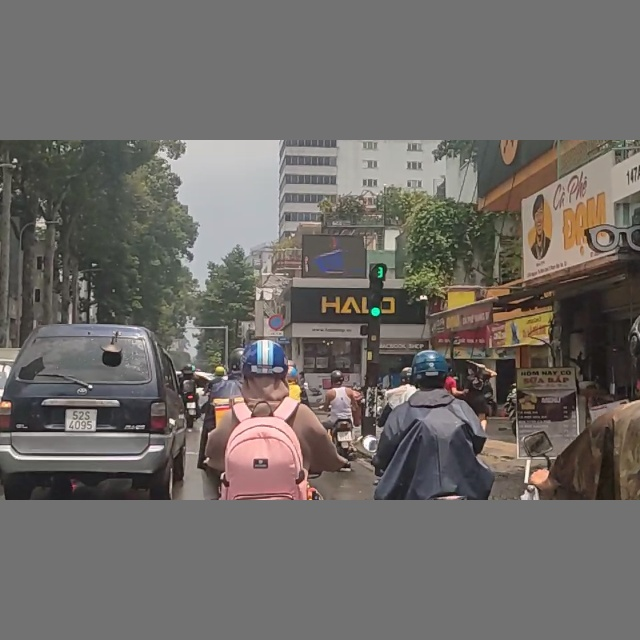P.131a: (267, 315, 285, 332)
